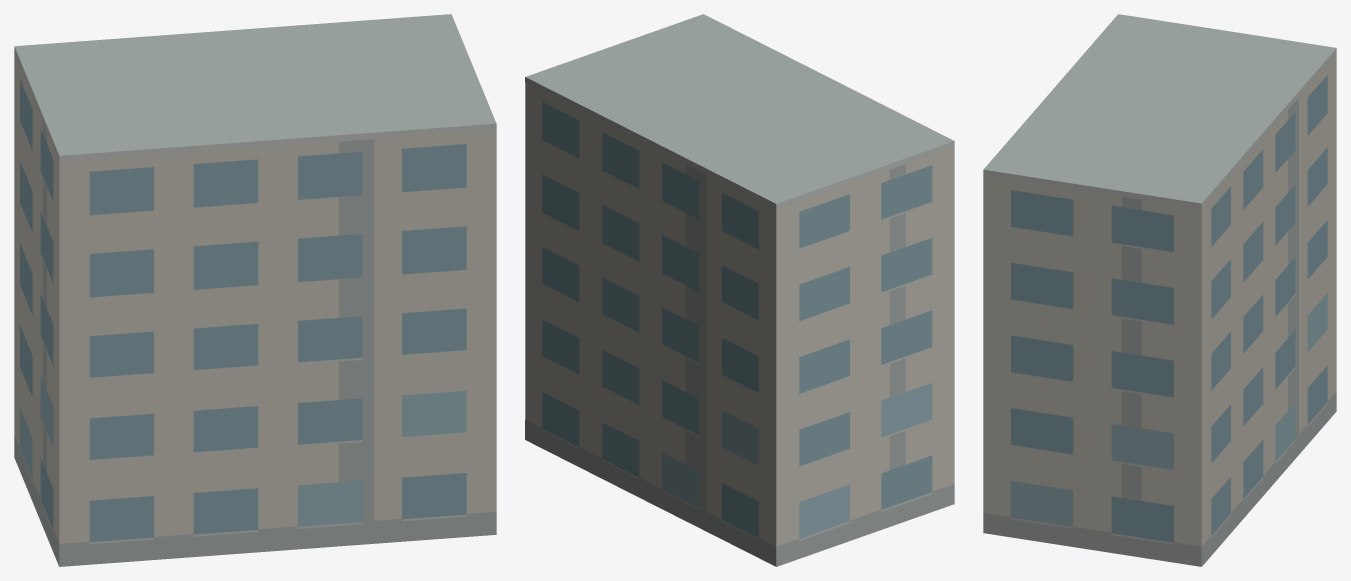
File: residential-d95598b4-6ff3-42b5-8faf-d609e9a8b4b3.glb
3 renders of one model, left to right at view 1: azimuth 30°, elevation 25°; view 2: azimuth 150°, elevation 25°; view 3: azimuth 270°, elevation 25°, orthographic. The views are drawn at different scales.
Visible parts, largest first — view 1: residential-d95598b4-6ff3-42b5-8faf-d609e9a8b4b3.tmp; view 2: residential-d95598b4-6ff3-42b5-8faf-d609e9a8b4b3.tmp; view 3: residential-d95598b4-6ff3-42b5-8faf-d609e9a8b4b3.tmp.
Part boxes in pixels (x1=…): residential-d95598b4-6ff3-42b5-8faf-d609e9a8b4b3.tmp: x1=14, y1=14, x2=496, y2=566; residential-d95598b4-6ff3-42b5-8faf-d609e9a8b4b3.tmp: x1=525, y1=14, x2=954, y2=566; residential-d95598b4-6ff3-42b5-8faf-d609e9a8b4b3.tmp: x1=983, y1=14, x2=1336, y2=566.
Bounding box in the file's own units: 17.06 × 15.25 × 13.45.
